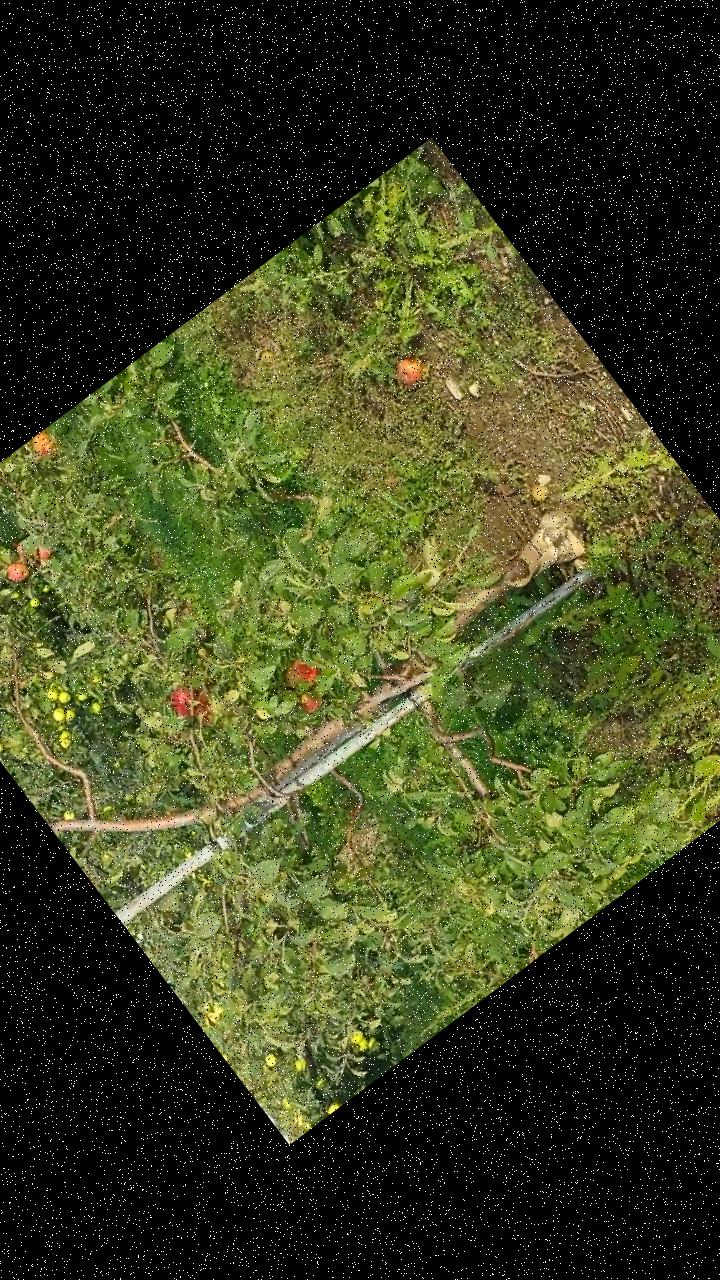Apple: (280, 650, 324, 694), (162, 679, 204, 721), (185, 688, 222, 728), (0, 554, 34, 588), (27, 428, 60, 461), (294, 686, 324, 716), (30, 539, 54, 563), (9, 539, 28, 559)
